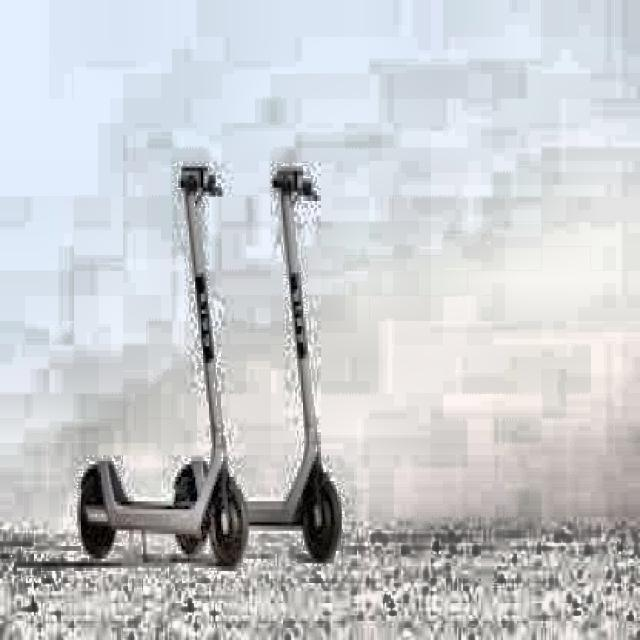bike: (66, 156, 343, 568)
